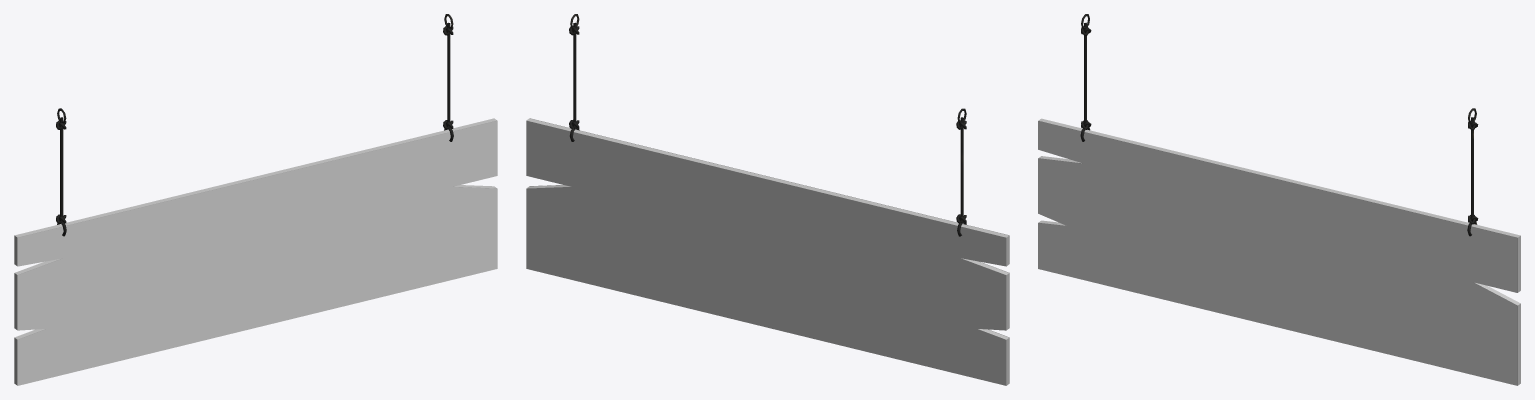
File: KB3D_DMZ_Sign_A.fbx
The picture shows the model from 3 angles, left to right: view 1: azimuth 30°, elevation 25°; view 2: azimuth 150°, elevation 25°; view 3: azimuth 330°, elevation 25°; orthographic projection.
Parts seen in each view (by area): view 1: KB3D_DMZ_Sign_A_Main; view 2: KB3D_DMZ_Sign_A_Main; view 3: KB3D_DMZ_Sign_A_Main.
Boxes of the visible parts, x1,y1,x2,y2 form: KB3D_DMZ_Sign_A_Main: (14,14,497,385); KB3D_DMZ_Sign_A_Main: (526,14,1009,385); KB3D_DMZ_Sign_A_Main: (1038,14,1520,385).
Size of the model in its own units: 229 by 121 by 7.5.
